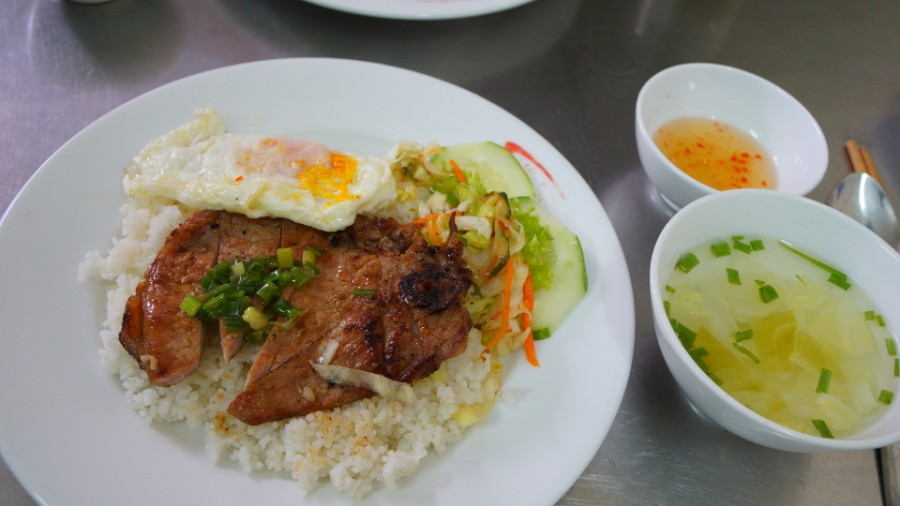fried egg: (163, 121, 373, 230)
plain rice: (259, 417, 434, 467)
